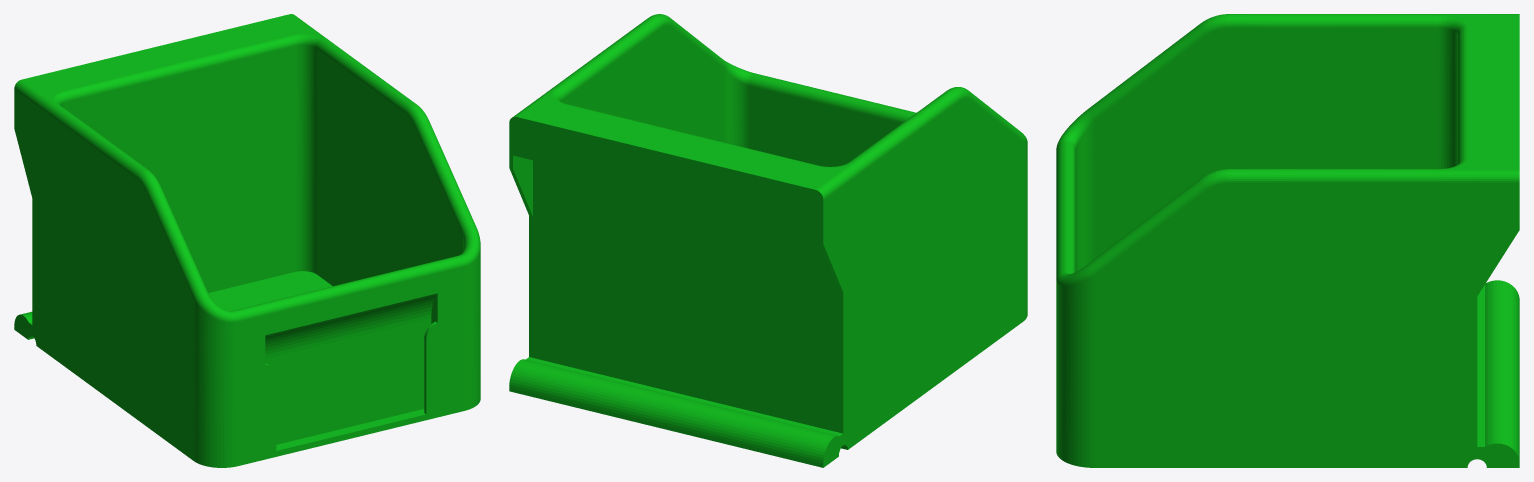
File: 50mm_green.dae
The picture shows the model from 3 angles, left to right: view 1: azimuth 30°, elevation 25°; view 2: azimuth 150°, elevation 25°; view 3: azimuth 270°, elevation 25°; orthographic projection. The views are drawn at different scales.
Visible parts, largest first — view 1: _0Mm_Open_Bin; view 2: _0Mm_Open_Bin; view 3: _0Mm_Open_Bin.
Part boxes in pixels (x1,y1,x2,y2): _0Mm_Open_Bin: [14, 14, 480, 467]; _0Mm_Open_Bin: [509, 14, 1027, 467]; _0Mm_Open_Bin: [1056, 14, 1519, 467].
Bounding box in the file's own units: 0.2 × 0.24 × 0.168.
